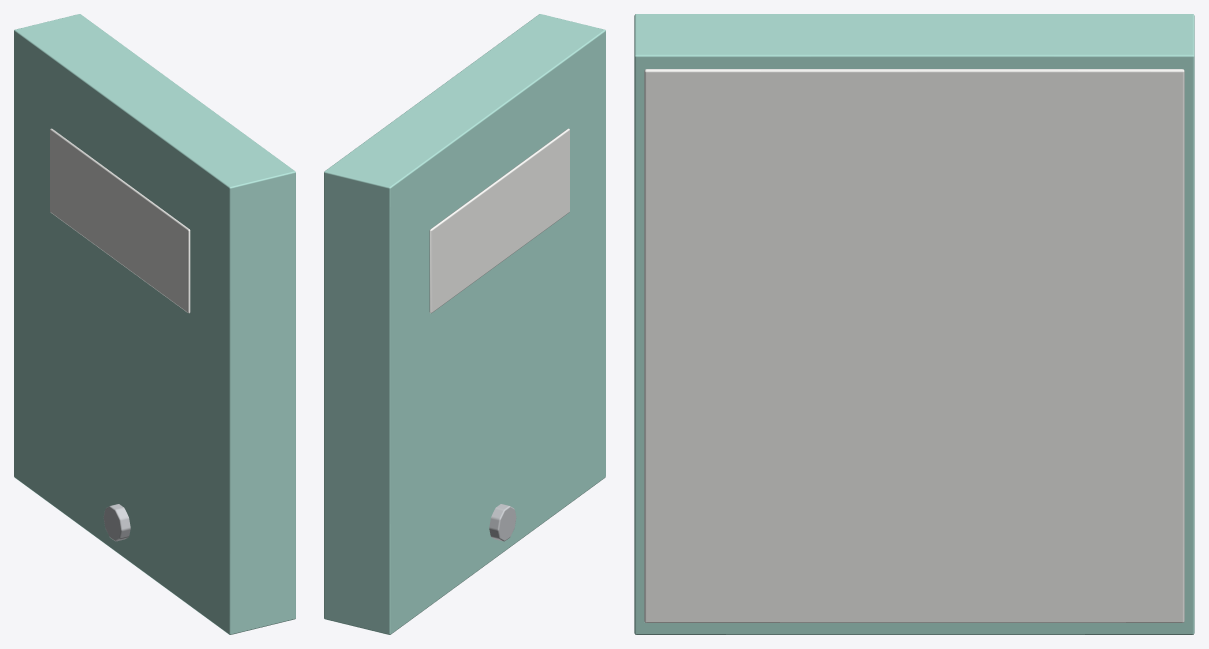
File: SM_BinderMint.fbx
3 views of the same model, side by side, from view 1: azimuth 30°, elevation 25°; view 2: azimuth 150°, elevation 25°; view 3: azimuth 270°, elevation 25° (orthographic). The views are drawn at different scales.
Visible parts, largest first — view 1: SM_BinderMint; view 2: SM_BinderMint; view 3: SM_BinderMint.
Boxes of the visible parts, x1,y1,x2,y2 form: SM_BinderMint: (14,14,295,634); SM_BinderMint: (324,14,605,634); SM_BinderMint: (634,14,1194,634).
Size of the model in its own units: 0.059 by 0.32 by 0.28.
